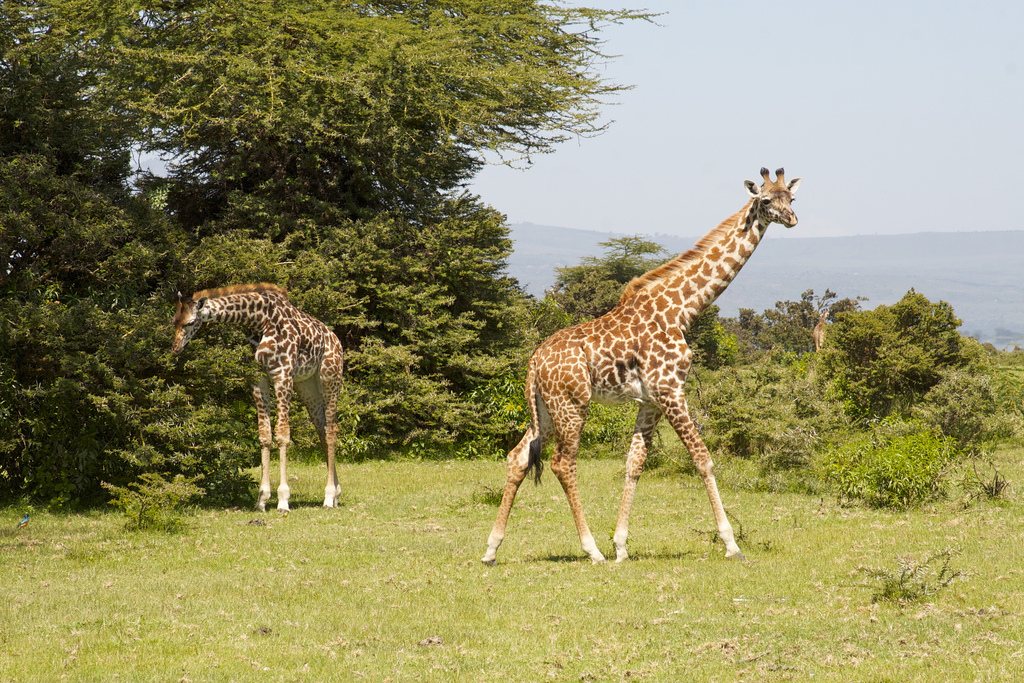giraffe: (460, 157, 841, 572), (171, 258, 382, 528)
